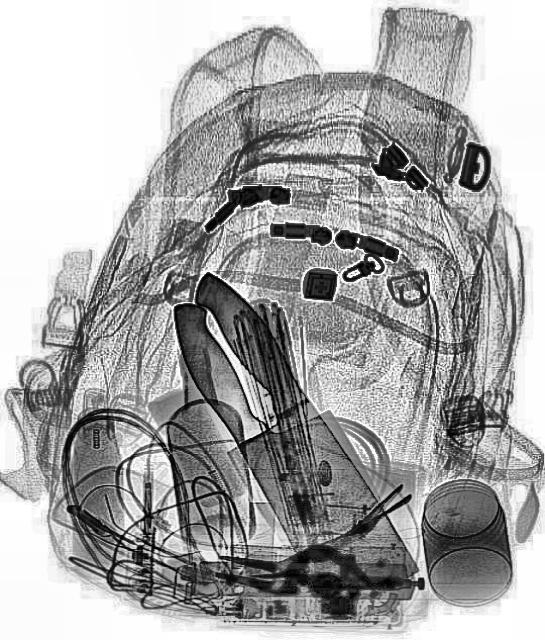Knife: (142, 260, 422, 634), (155, 260, 425, 628)
